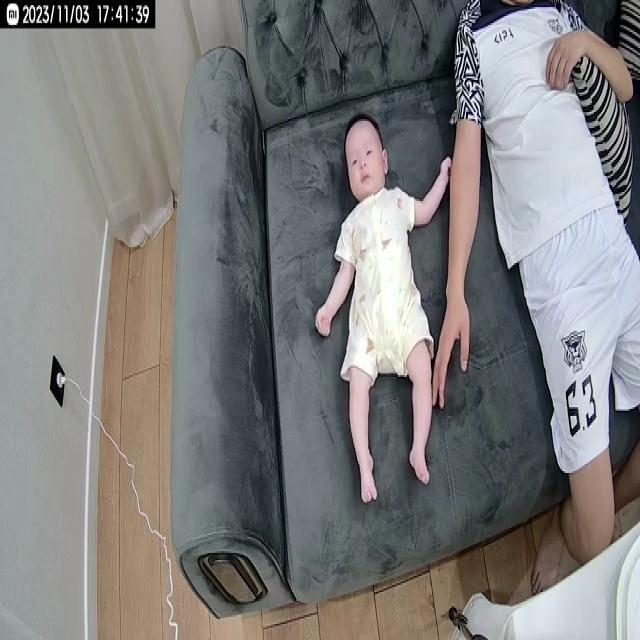baby: (312, 111, 453, 507)
